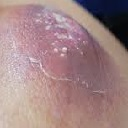Carbuncle: (37, 12, 99, 73)
